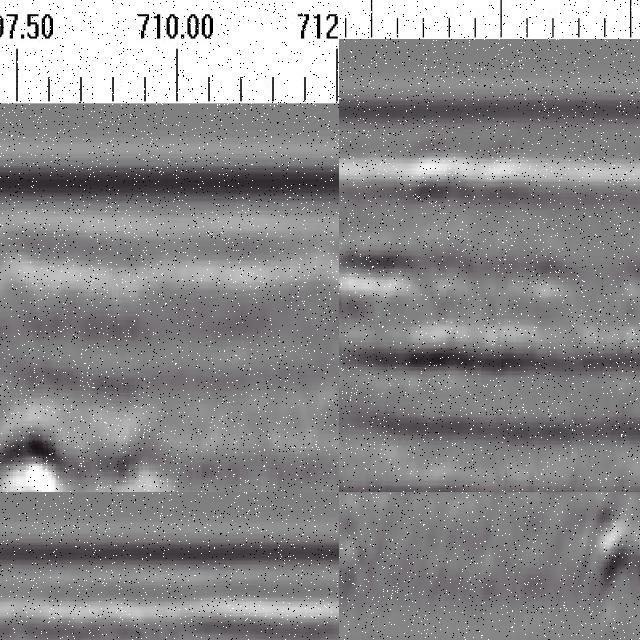loose: (340, 239, 465, 388), (1, 414, 156, 493), (589, 493, 640, 596)
